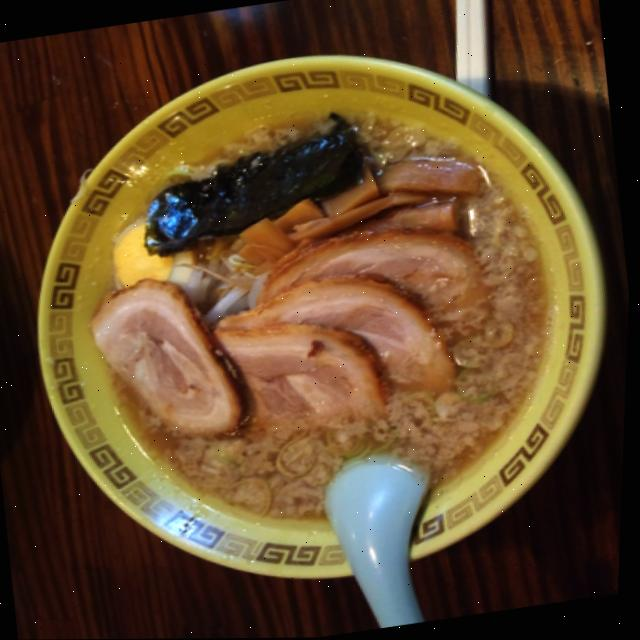面条主食: (0, 8, 640, 618)
